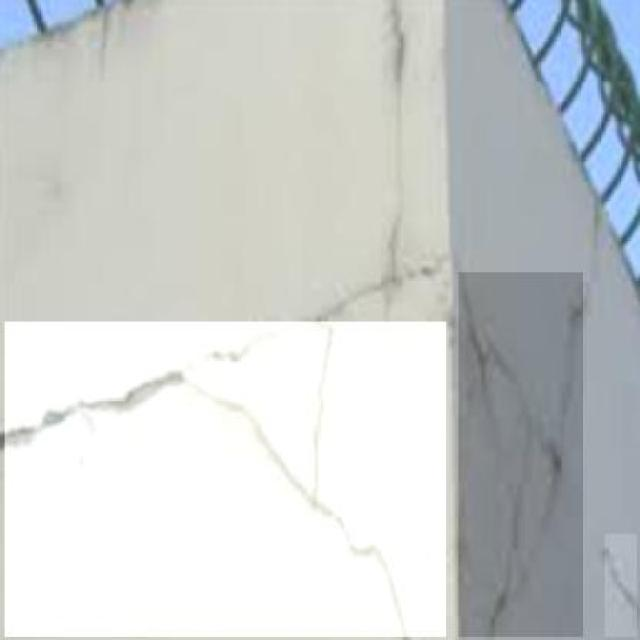Crack: (464, 274, 592, 632), (7, 322, 260, 472), (286, 440, 421, 636), (293, 275, 438, 439), (365, 2, 424, 266)
